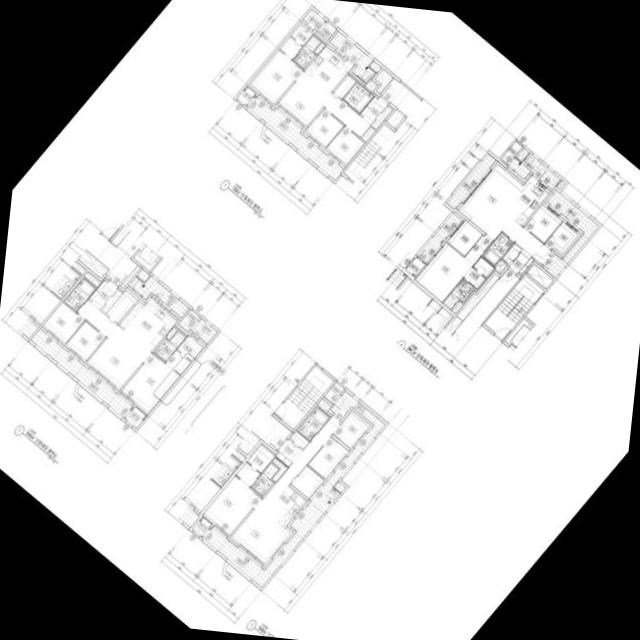background: (0, 0, 640, 640)
space_balconi: (201, 391, 385, 588), (30, 329, 133, 418), (246, 95, 343, 180), (542, 190, 598, 278), (446, 153, 495, 209), (128, 276, 189, 318), (329, 31, 374, 83), (416, 213, 461, 263), (507, 153, 560, 190), (190, 319, 217, 344), (302, 9, 325, 31)
space_bedroom: (415, 235, 491, 302), (121, 353, 178, 413), (203, 476, 260, 535), (250, 50, 302, 104), (43, 302, 84, 343), (307, 437, 347, 479), (65, 321, 104, 360), (523, 205, 561, 243), (326, 126, 364, 164), (305, 109, 343, 147), (332, 413, 368, 449), (544, 222, 577, 254)
space_dressroom: (235, 445, 274, 486), (165, 335, 202, 374), (279, 24, 312, 59), (463, 257, 493, 289)
space_front: (88, 279, 117, 309), (359, 96, 387, 125), (275, 439, 302, 467), (509, 249, 533, 275)
space_kitchen: (119, 298, 177, 352), (502, 176, 548, 226), (305, 46, 353, 92), (265, 486, 305, 527)
space_living_room: (231, 417, 339, 564), (458, 164, 551, 264), (76, 300, 150, 389), (278, 70, 370, 137)
space_multipurpose_space: (447, 220, 482, 256)
space_other: (456, 273, 499, 321), (290, 466, 323, 498), (106, 290, 137, 323), (526, 264, 553, 289), (333, 75, 356, 99), (500, 141, 521, 165), (374, 69, 393, 94), (323, 382, 344, 404), (178, 310, 199, 332), (120, 266, 140, 289), (371, 106, 391, 129), (101, 290, 121, 313), (502, 244, 521, 264), (271, 458, 286, 482), (317, 22, 336, 40), (290, 431, 309, 449), (386, 109, 404, 128), (83, 272, 99, 287), (360, 127, 374, 142), (136, 269, 149, 282), (318, 399, 331, 411), (516, 148, 528, 161), (494, 259, 506, 272), (368, 61, 381, 73), (364, 80, 376, 92), (450, 301, 462, 313), (333, 482, 345, 493), (313, 42, 324, 54), (166, 327, 176, 339), (556, 180, 564, 189)
space_outdoor_room: (124, 407, 146, 429), (191, 517, 211, 537), (405, 257, 424, 277), (236, 86, 255, 105)
space_staircase: (274, 365, 333, 430), (484, 275, 543, 340)
space_toilet: (63, 278, 95, 312), (297, 407, 329, 440), (481, 233, 513, 266), (153, 331, 185, 362), (342, 82, 373, 113), (442, 279, 474, 309), (292, 35, 320, 69), (250, 463, 278, 496)
